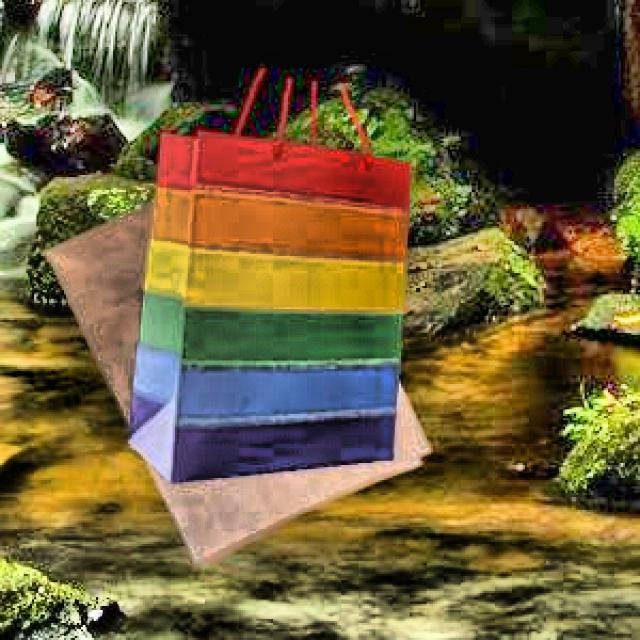Paper-bag: (44, 154, 442, 581), (122, 47, 416, 469)
